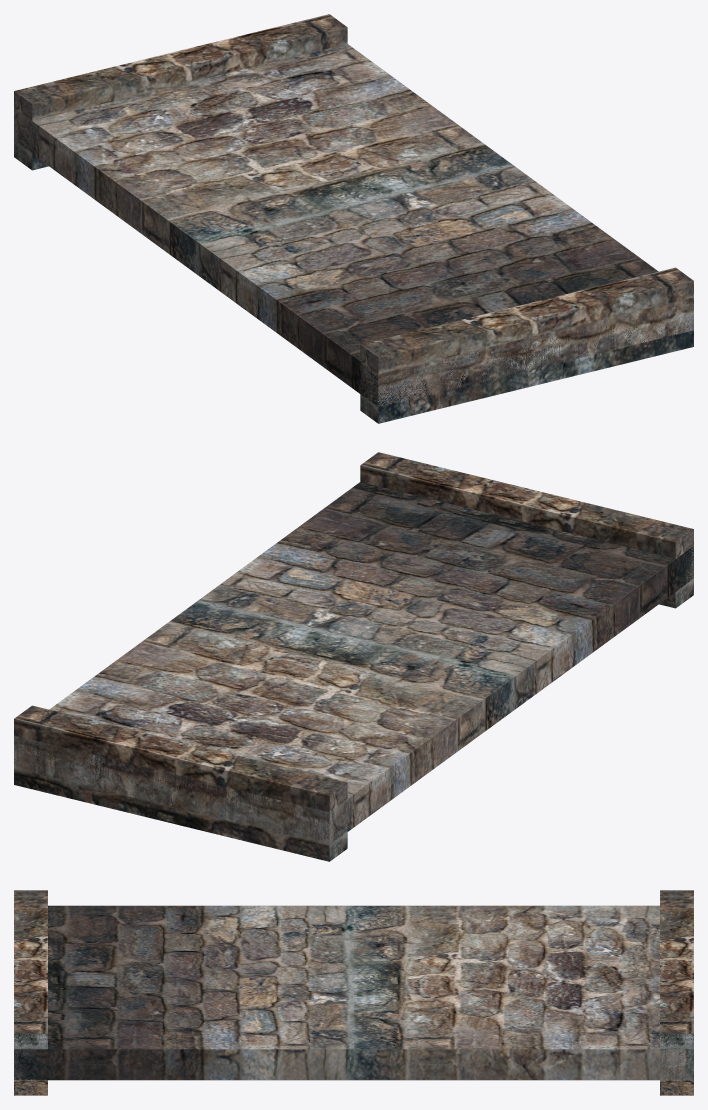
The model's file is Lab_Wall.gltf.
3 views of the same model, one above another, from view 1: azimuth 30°, elevation 25°; view 2: azimuth 150°, elevation 25°; view 3: azimuth 270°, elevation 25° (orthographic). The views are drawn at different scales.
Parts seen in each view (by area): view 1: Lab_Wall; view 2: Lab_Wall; view 3: Lab_Wall.
Boxes of the visible parts, x1,y1,x2,y2 form: Lab_Wall: (14, 14, 693, 423); Lab_Wall: (14, 452, 693, 861); Lab_Wall: (14, 890, 693, 1095).
Bounding box in the file's own units: 0.013 × 0.0026 × 0.026.
Materials: 1 (1 with a texture image).
